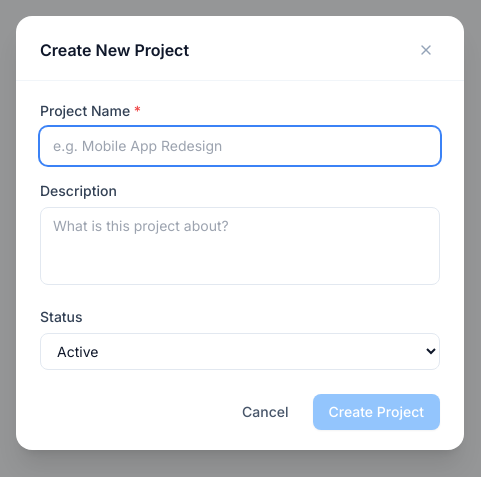
Test: CreateProjectDialog › enables submit button when name is filled
Type "My New Project" into the field labelled "Project Name *" at {"x": 240, "y": 146}, box [40,127,440,165]
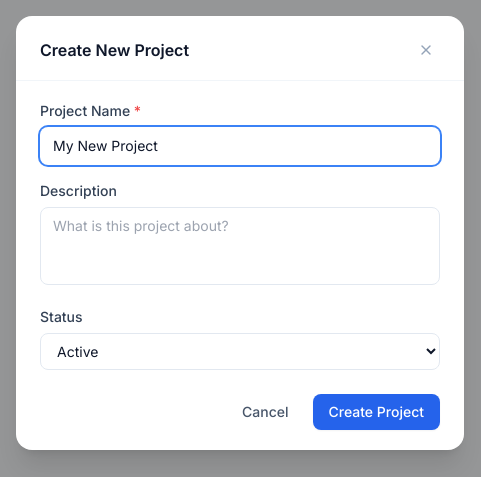
Result: the button "Create Project" is enabled at [312,394,440,430]
